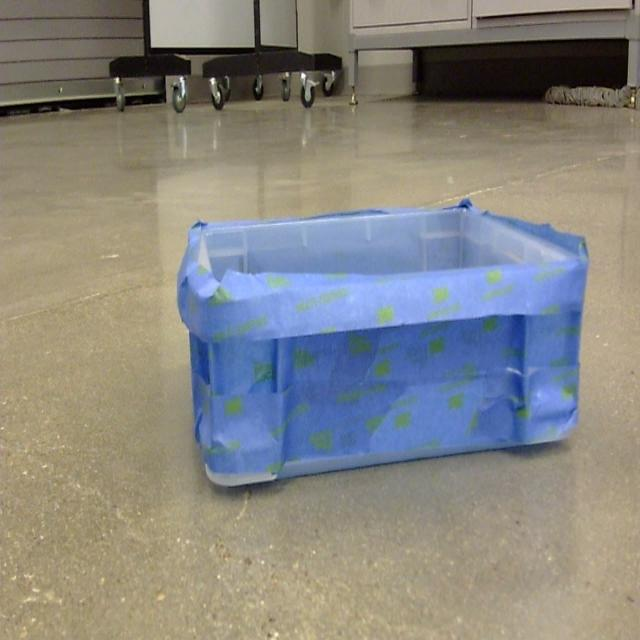bucket: (176, 204, 590, 492)
